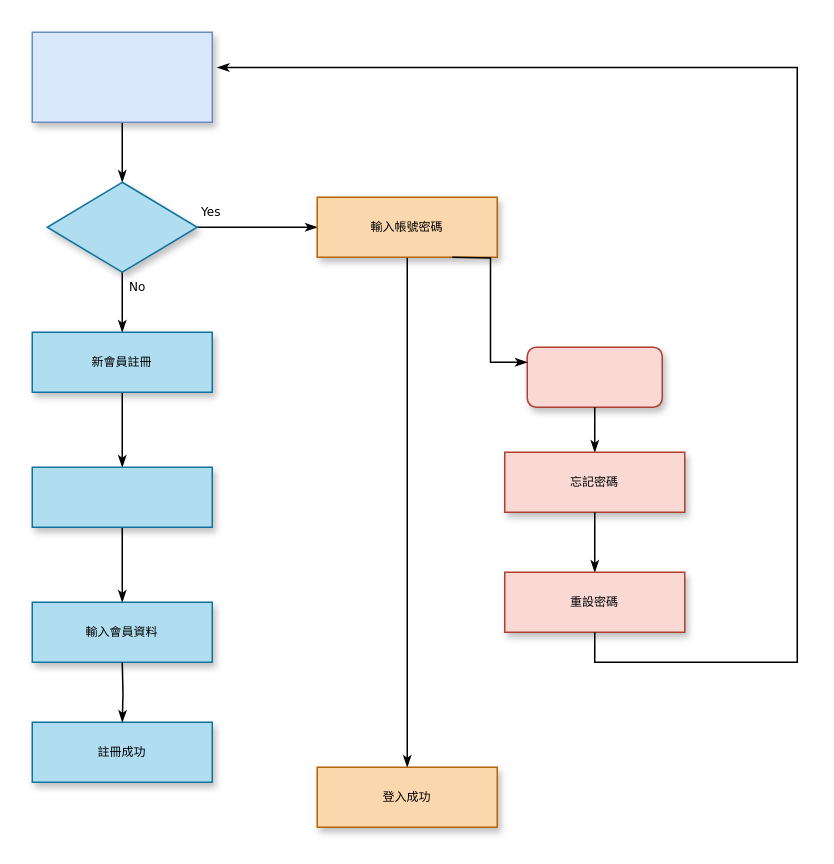
Image size: 834x864. Some labels were removed from this diagram. The centre of each missing label's shape, as x and y in pixels:
"同意會員服務條款" belongs at point (123, 499).
"密碼錯誤" belongs at point (595, 379).
"是否已經 註冊會員" belongs at point (123, 229).
"會員登入" belongs at point (123, 79).
